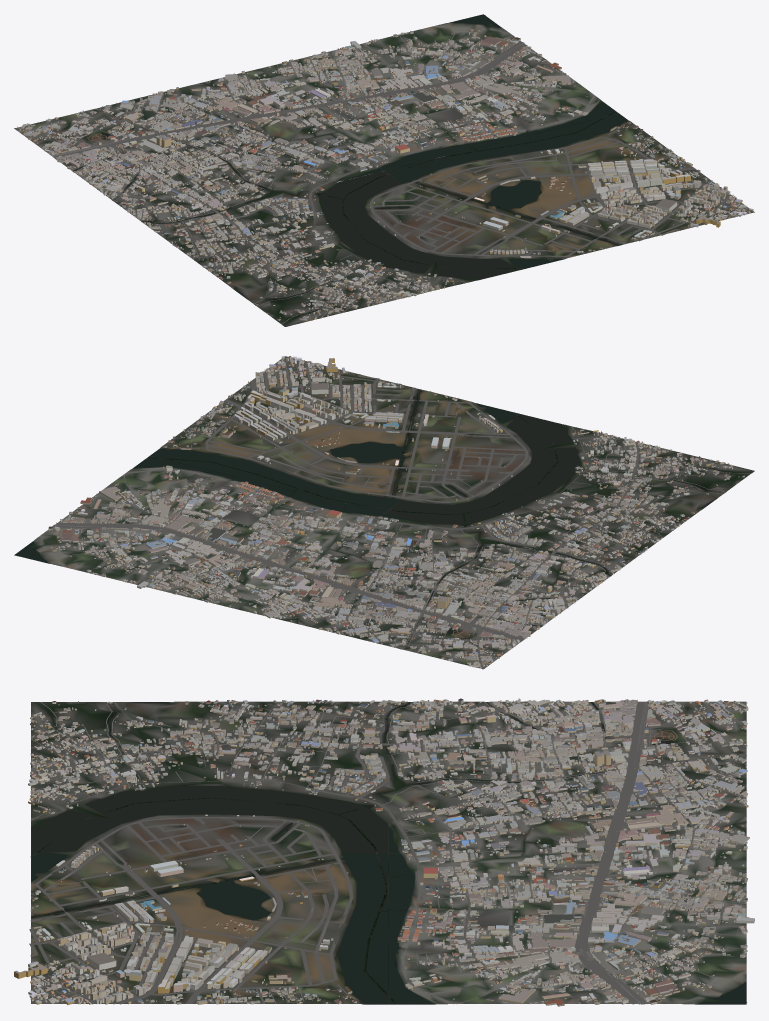
3 renders of one model, top to bottom at view 1: azimuth 30°, elevation 25°; view 2: azimuth 150°, elevation 25°; view 3: azimuth 270°, elevation 25°, orthographic. The views are drawn at different scales.
Parts seen in each view (by area): view 1: ground, buildings, roads, water; view 2: ground, buildings, roads, water; view 3: ground, buildings, roads, water.
Part boxes in pixels (x1,y1,x2,y2): ground: (14,15,754,326); buildings: (17,29,753,320); roads: (14,28,747,324); water: (73,14,627,325); ground: (14,356,754,668); buildings: (48,356,744,668); roads: (44,360,750,669); water: (15,389,751,643); ground: (31,701,746,1004); buildings: (14,698,754,1006); roads: (29,701,746,1004); water: (30,702,746,1004).
Bounding box in the file's own units: 2833 × 47.62 × 2900.
